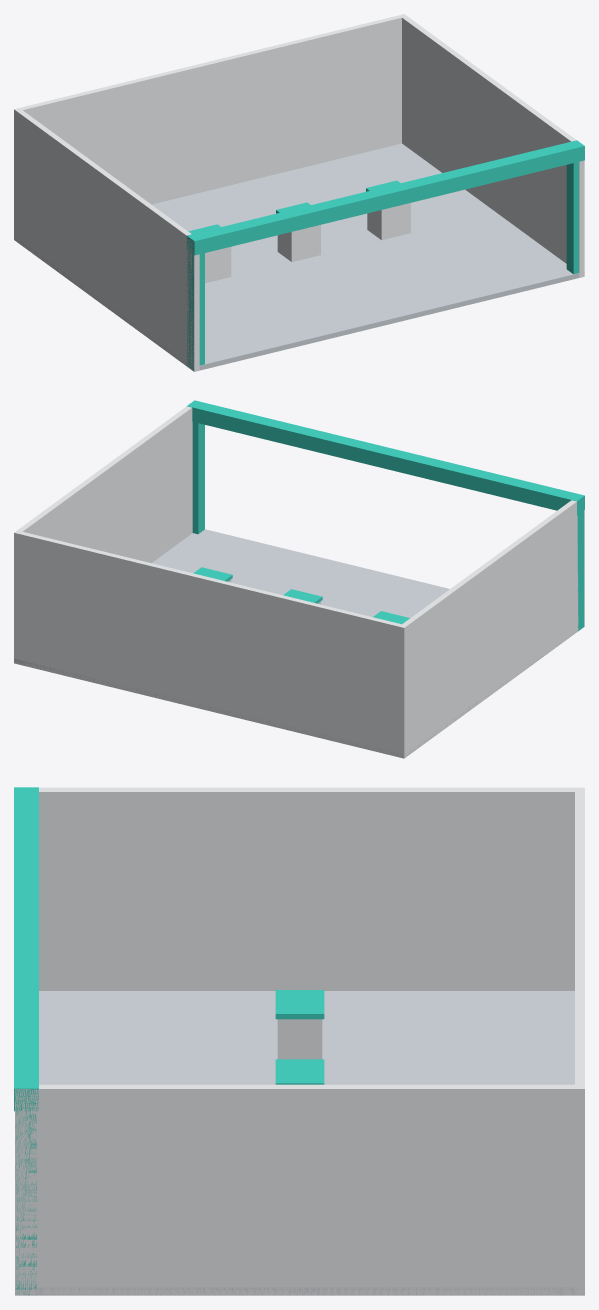
3 views of the same model, one above another, from view 1: azimuth 30°, elevation 25°; view 2: azimuth 150°, elevation 25°; view 3: azimuth 270°, elevation 25° (orthographic). The views are drawn at different scales.
Parts seen in each view (by area): view 1: Exhibition Booth Concept; view 2: Exhibition Booth Concept; view 3: Exhibition Booth Concept.
Part boxes in pixels (x1,y1,x2,y2): Exhibition Booth Concept: (14,14,584,371); Exhibition Booth Concept: (14,400,584,758); Exhibition Booth Concept: (14,787,584,1295).
Bounding box in the file's own units: 10 × 3.2 × 8.01.
